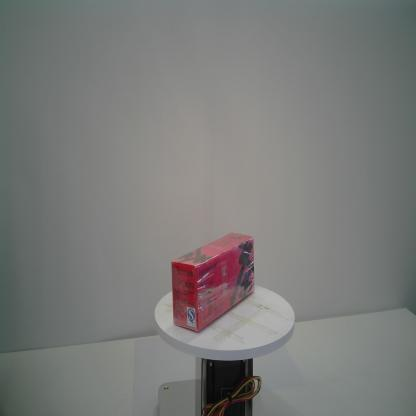Instant Drink: (171, 232, 255, 331)
